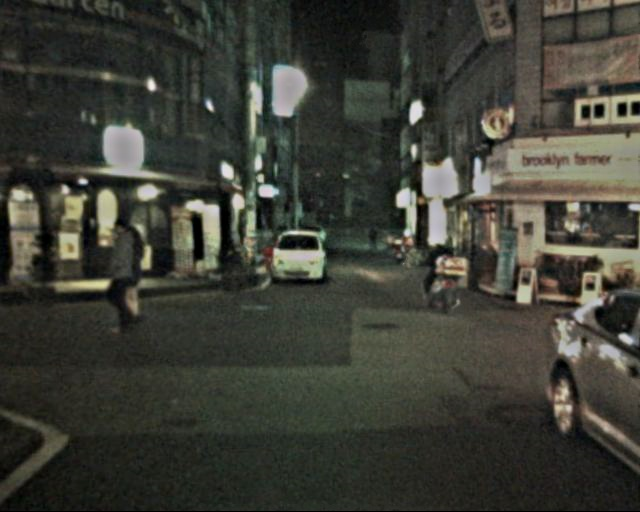person: (103, 218, 148, 332), (424, 242, 460, 317)
